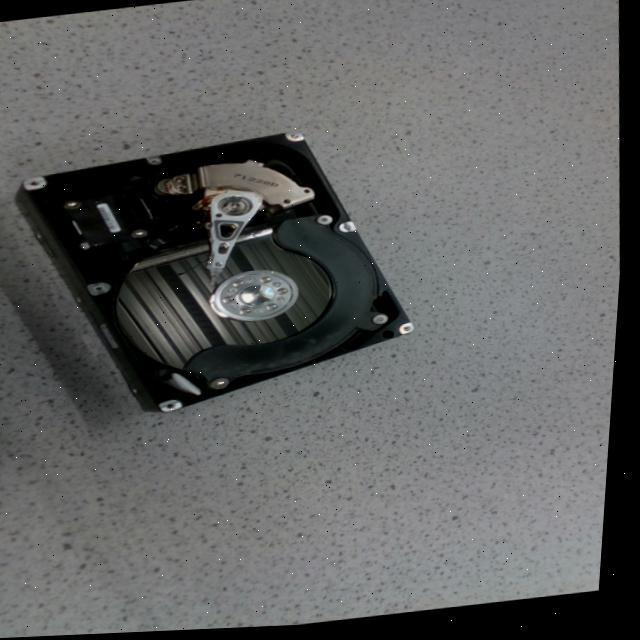actuator arm: (208, 191, 264, 277)
actuator axis: (221, 199, 252, 217)
case: (19, 135, 418, 414)
magnet: (183, 163, 316, 213)
pcb connector: (64, 193, 157, 249)
platter: (120, 224, 335, 367)
platter holder: (215, 272, 301, 323)
platter protector: (189, 221, 380, 383)
screw: (215, 380, 234, 391), (65, 200, 83, 210), (377, 317, 392, 328), (319, 218, 335, 228), (133, 230, 150, 239), (235, 282, 248, 289), (226, 298, 237, 305), (270, 306, 281, 313), (263, 279, 275, 285), (244, 311, 255, 316), (280, 291, 291, 296)
